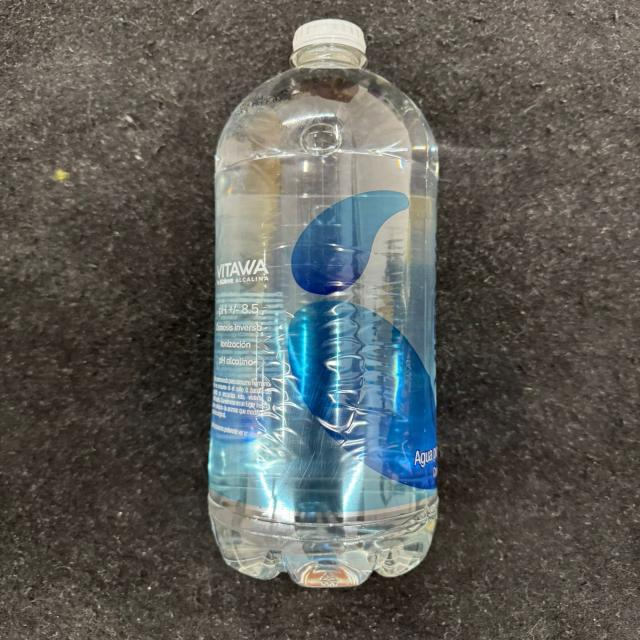AGUA ALCALINA VITAWA 1LT: (216, 16, 445, 582)
